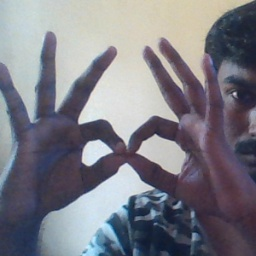B: (72, 70, 193, 188)
